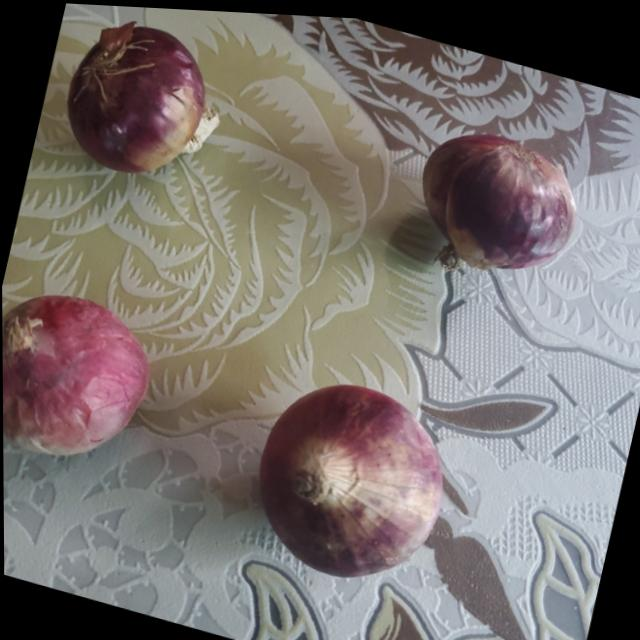onion: (244, 361, 468, 598), (410, 115, 593, 289), (49, 2, 215, 187), (2, 279, 157, 473)
